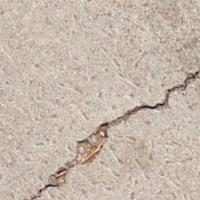crack: (0, 54, 199, 199)
